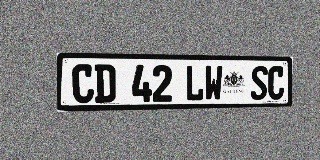2: (152, 65, 172, 102)
4: (132, 65, 152, 102)
C: (72, 64, 94, 103), (267, 66, 285, 100)
D: (94, 64, 116, 103)
L: (185, 65, 204, 101)
S: (250, 66, 268, 100)
W: (204, 65, 223, 101)
